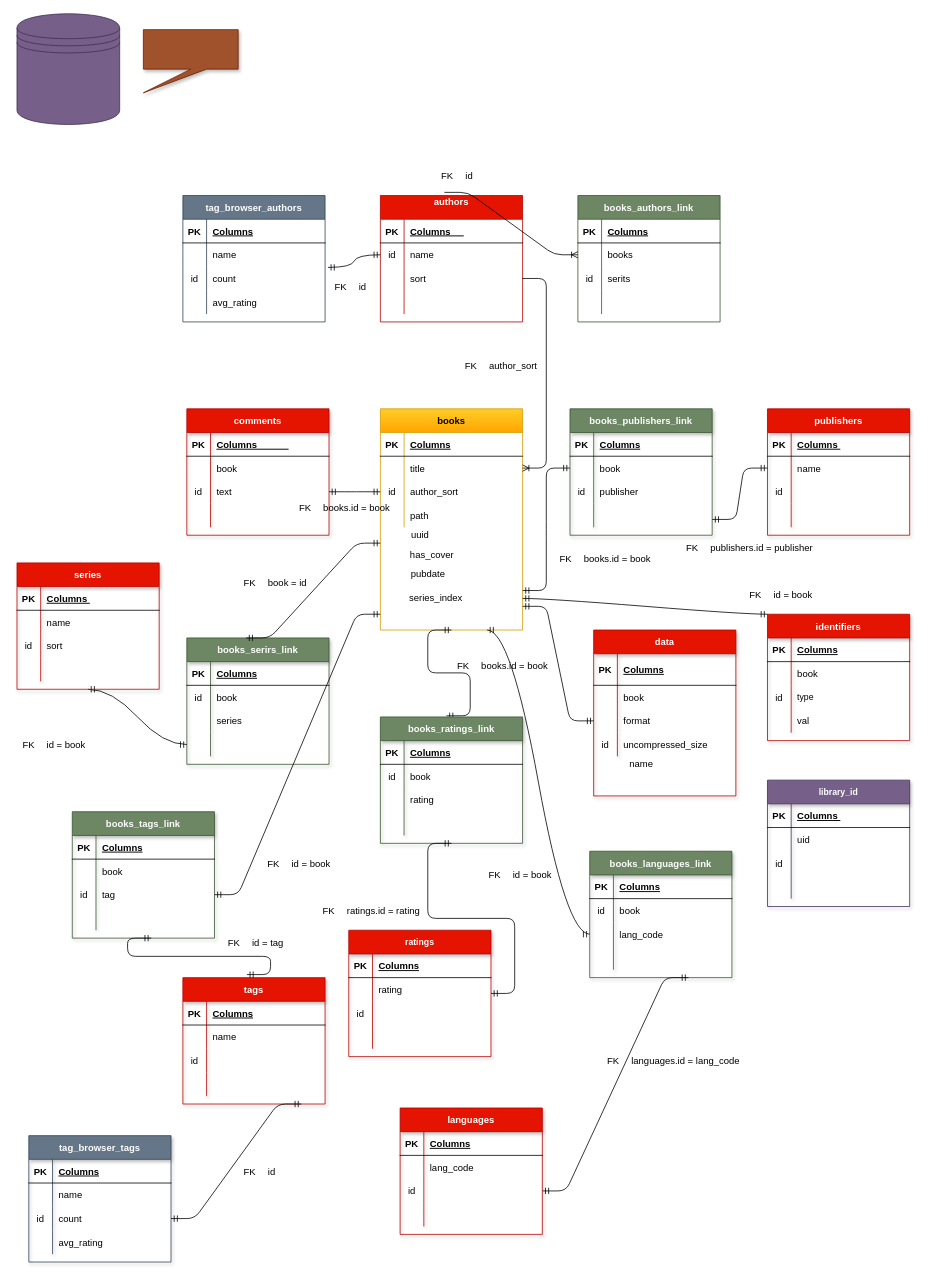
Image size: 928x1281. Some labels were removed from this diagram. Each missing label, with the centre of its shape:
calibre: the point at 68,68
структура базы данных: the point at 191,62
